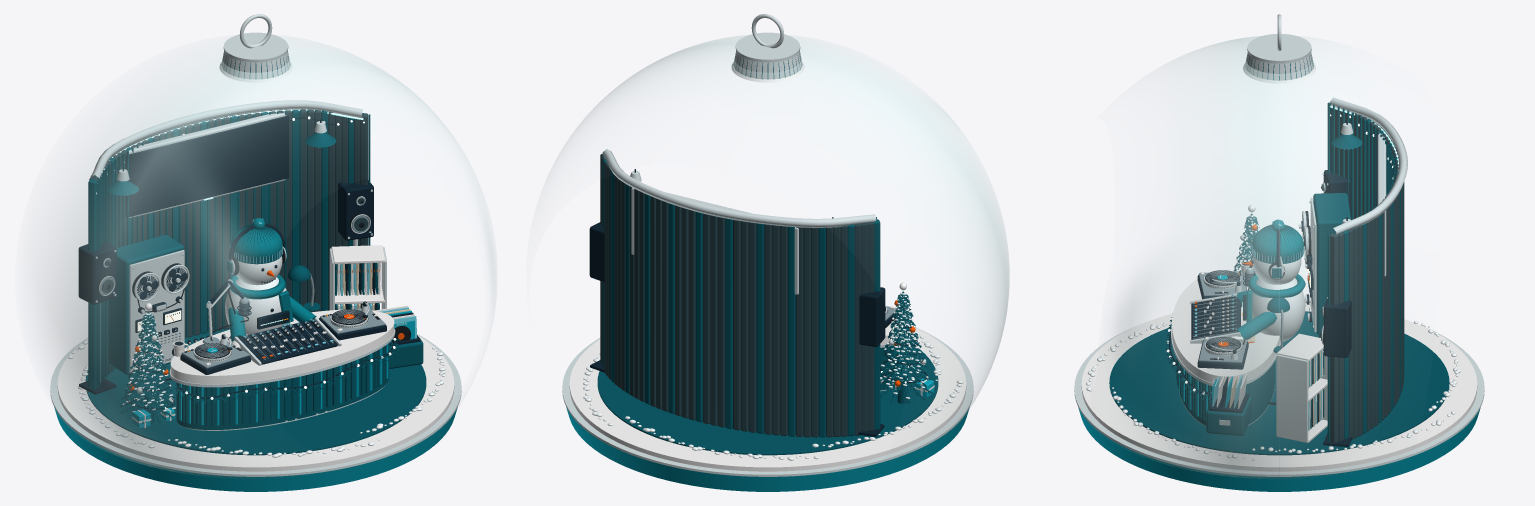
File: RADIO_STUDIO.glb
3 renders of one model, left to right at view 1: azimuth 30°, elevation 25°; view 2: azimuth 150°, elevation 25°; view 3: azimuth 270°, elevation 25°, orthographic.
Visible parts, largest first — view 1: GlassShell, Dark teal lacquer (×2), Machined aluminium, Porcelain enamel, Acoustic wool, Broadcast anodised chassis, NowPlaying, INVITRO Blue enamel, Fresh snow (×2), Teal knitted wool, Satin aluminium, Rubber and vinyl (+1 smaller); view 2: Acoustic wool, GlassShell, Dark teal lacquer, Porcelain enamel, Machined aluminium, INVITRO Blue enamel, Broadcast anodised chassis, Fresh snow; view 3: GlassShell, Dark teal lacquer (×2), Porcelain enamel, Machined aluminium, Acoustic wool, INVITRO Blue enamel, Broadcast anodised chassis, Fresh snow (×2), Teal knitted wool (×2), Satin aluminium, Rubber and vinyl, Ice blue.
Boxes of the visible parts, left/top/right/bottom form: GlassShell: left=46, top=35, right=496, bottom=477; Dark teal lacquer (×2): left=85, top=51, right=426, bottom=455; Machined aluminium: left=50, top=14, right=461, bottom=476; Porcelain enamel: left=57, top=62, right=454, bottom=471; Acoustic wool: left=89, top=109, right=368, bottom=374; Broadcast anodised chassis: left=78, top=115, right=420, bottom=409; NowPlaying: left=129, top=118, right=286, bottom=216; INVITRO Blue enamel: left=54, top=310, right=457, bottom=491; Fresh snow (×2): left=68, top=256, right=445, bottom=457; Teal knitted wool: left=229, top=218, right=293, bottom=323; Satin aluminium: left=100, top=197, right=385, bottom=368; Rubber and vinyl: left=97, top=195, right=411, bottom=380; Acoustic wool: left=600, top=153, right=874, bottom=437; GlassShell: left=562, top=35, right=1009, bottom=427; Dark teal lacquer: left=597, top=51, right=938, bottom=455; Porcelain enamel: left=569, top=62, right=966, bottom=471; Machined aluminium: left=562, top=14, right=973, bottom=476; INVITRO Blue enamel: left=566, top=345, right=969, bottom=491; Broadcast anodised chassis: left=589, top=169, right=927, bottom=436; Fresh snow: left=583, top=292, right=963, bottom=460; GlassShell: left=1115, top=36, right=1349, bottom=478; Dark teal lacquer (×2): left=1109, top=55, right=1449, bottom=455; Porcelain enamel: left=1081, top=63, right=1477, bottom=471; Machined aluminium: left=1074, top=14, right=1484, bottom=476; Acoustic wool: left=1320, top=109, right=1404, bottom=446; INVITRO Blue enamel: left=1078, top=358, right=1480, bottom=491; Broadcast anodised chassis: left=1169, top=115, right=1393, bottom=446; Fresh snow (×2): left=1086, top=214, right=1460, bottom=460; Teal knitted wool (×2): left=1237, top=219, right=1305, bottom=339; Satin aluminium: left=1193, top=183, right=1325, bottom=362; Rubber and vinyl: left=1200, top=182, right=1326, bottom=404; Ice blue: left=1195, top=295, right=1321, bottom=430.
Size of the model in its own units: 5.56 by 4.99 by 5.56.
